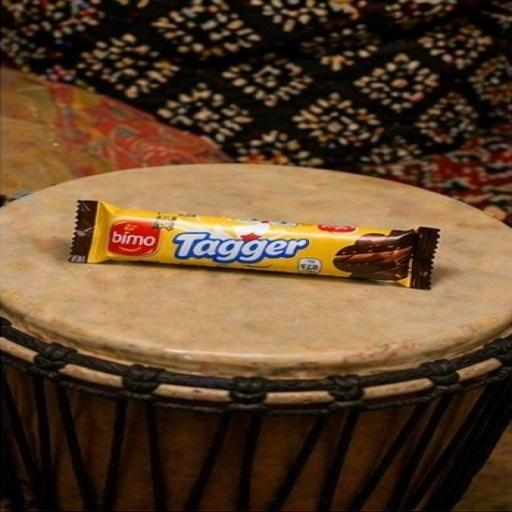tagger: (40, 161, 484, 355)
